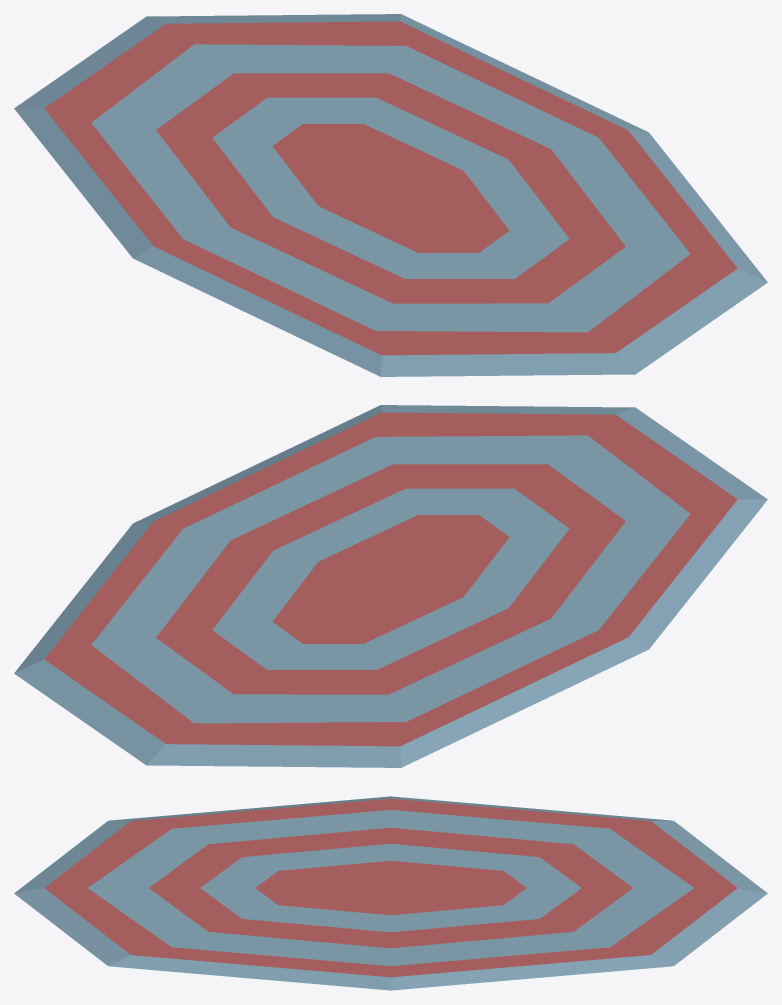
Rendered from Bedroom_Carpet.fbx.
The picture shows the model from 3 angles, top to bottom: view 1: azimuth 30°, elevation 25°; view 2: azimuth 150°, elevation 25°; view 3: azimuth 270°, elevation 25°; orthographic projection. The views are drawn at different scales.
Parts seen in each view (by area): view 1: Bedroom_Carpet; view 2: Bedroom_Carpet; view 3: Bedroom_Carpet.
Part boxes in pixels (left/top/right/bottom): Bedroom_Carpet: left=14, top=14, right=767, bottom=376; Bedroom_Carpet: left=14, top=405, right=767, bottom=767; Bedroom_Carpet: left=14, top=796, right=767, bottom=990.
Size of the model in its own units: 161 by 2.1 by 264.
